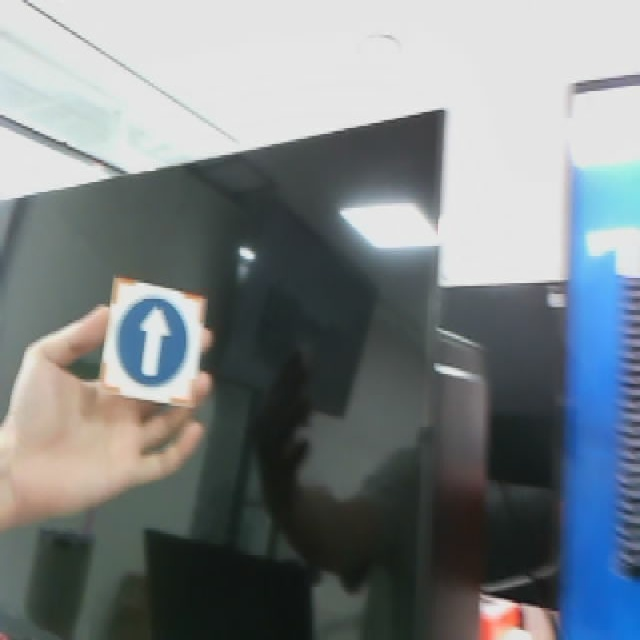strait: (95, 274, 208, 406)
